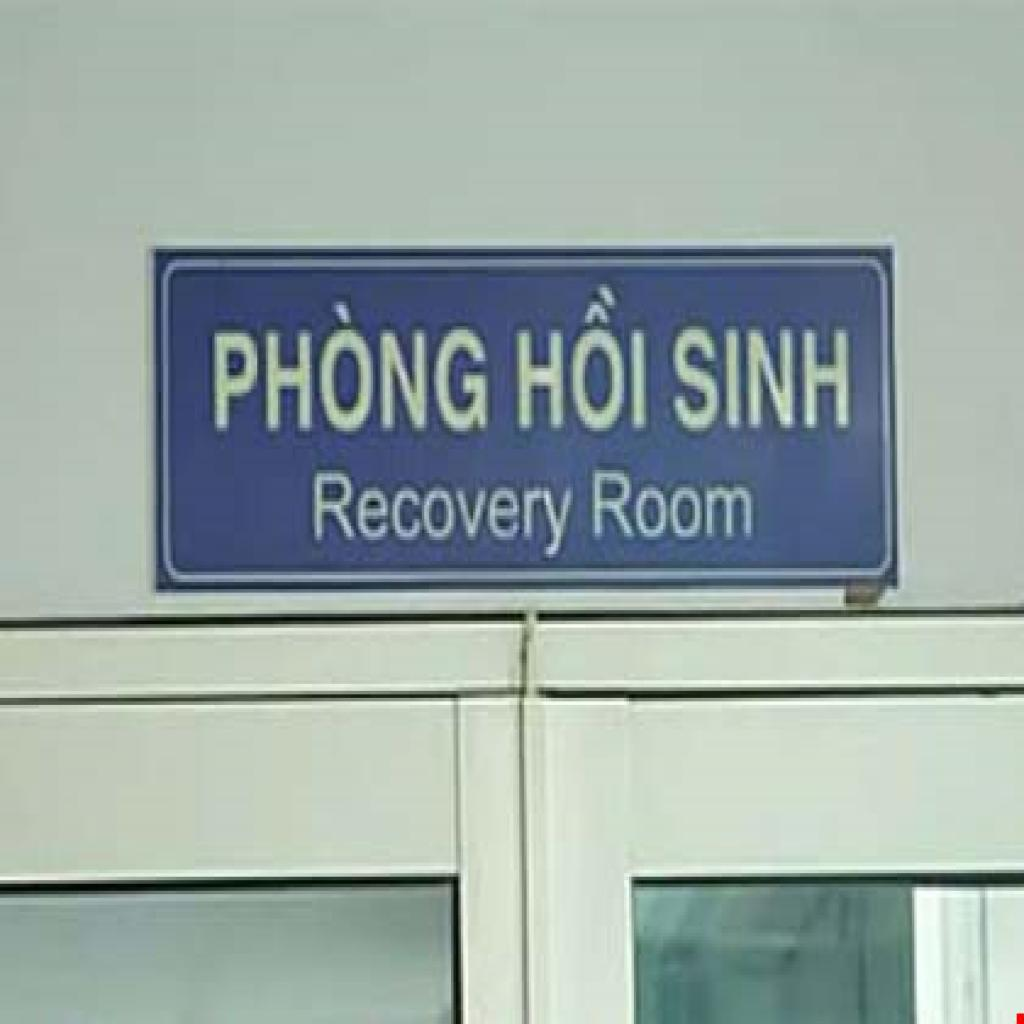text: (210, 298, 492, 445), (312, 474, 583, 561), (512, 280, 656, 435), (666, 326, 856, 431)
